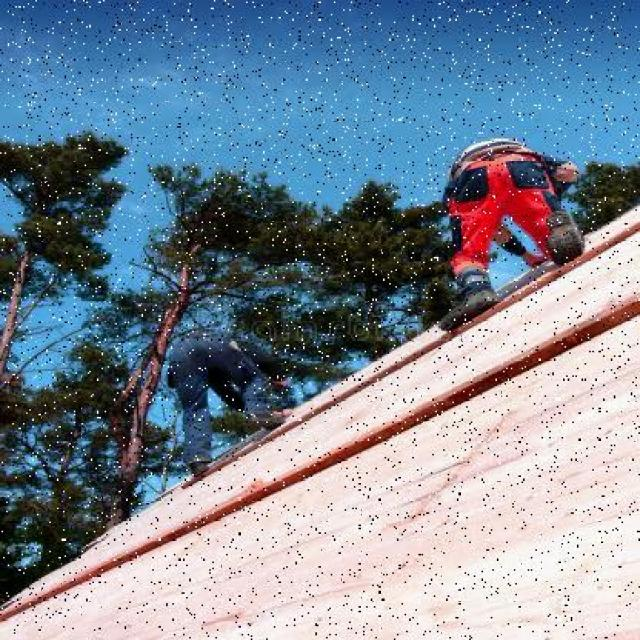shoes: (438, 283, 498, 326), (550, 203, 585, 266), (245, 413, 287, 427), (185, 456, 209, 479)
